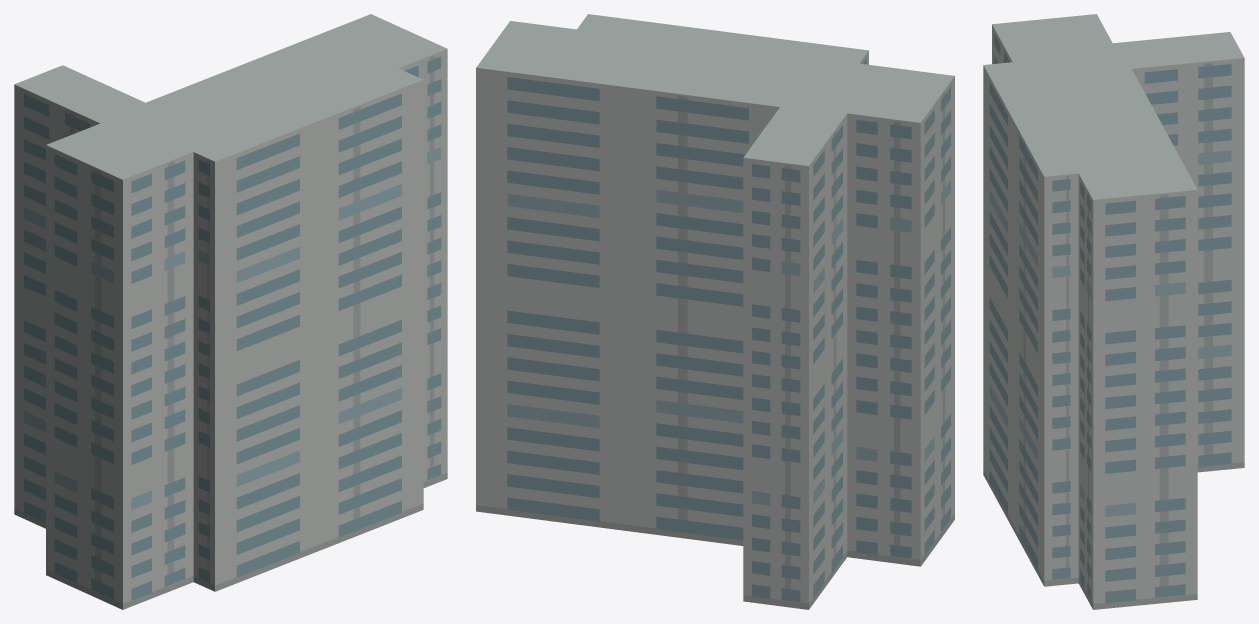
The model's file is residential-a9fbc4c4-c621-4b21-9d40-7e2dbfef6326.glb.
The picture shows the model from 3 angles, left to right: view 1: azimuth 30°, elevation 25°; view 2: azimuth 150°, elevation 25°; view 3: azimuth 270°, elevation 25°; orthographic projection. The views are drawn at different scales.
Parts seen in each view (by area): view 1: residential-a9fbc4c4-c621-4b21-9d40-7e2dbfef6326.tmp; view 2: residential-a9fbc4c4-c621-4b21-9d40-7e2dbfef6326.tmp; view 3: residential-a9fbc4c4-c621-4b21-9d40-7e2dbfef6326.tmp.
Boxes of the visible parts, x1,y1,x2,y2 form: residential-a9fbc4c4-c621-4b21-9d40-7e2dbfef6326.tmp: (14, 14, 447, 609); residential-a9fbc4c4-c621-4b21-9d40-7e2dbfef6326.tmp: (476, 14, 954, 609); residential-a9fbc4c4-c621-4b21-9d40-7e2dbfef6326.tmp: (983, 14, 1244, 609).
Bounding box in the file's own units: 57.42 × 59 × 34.08.
